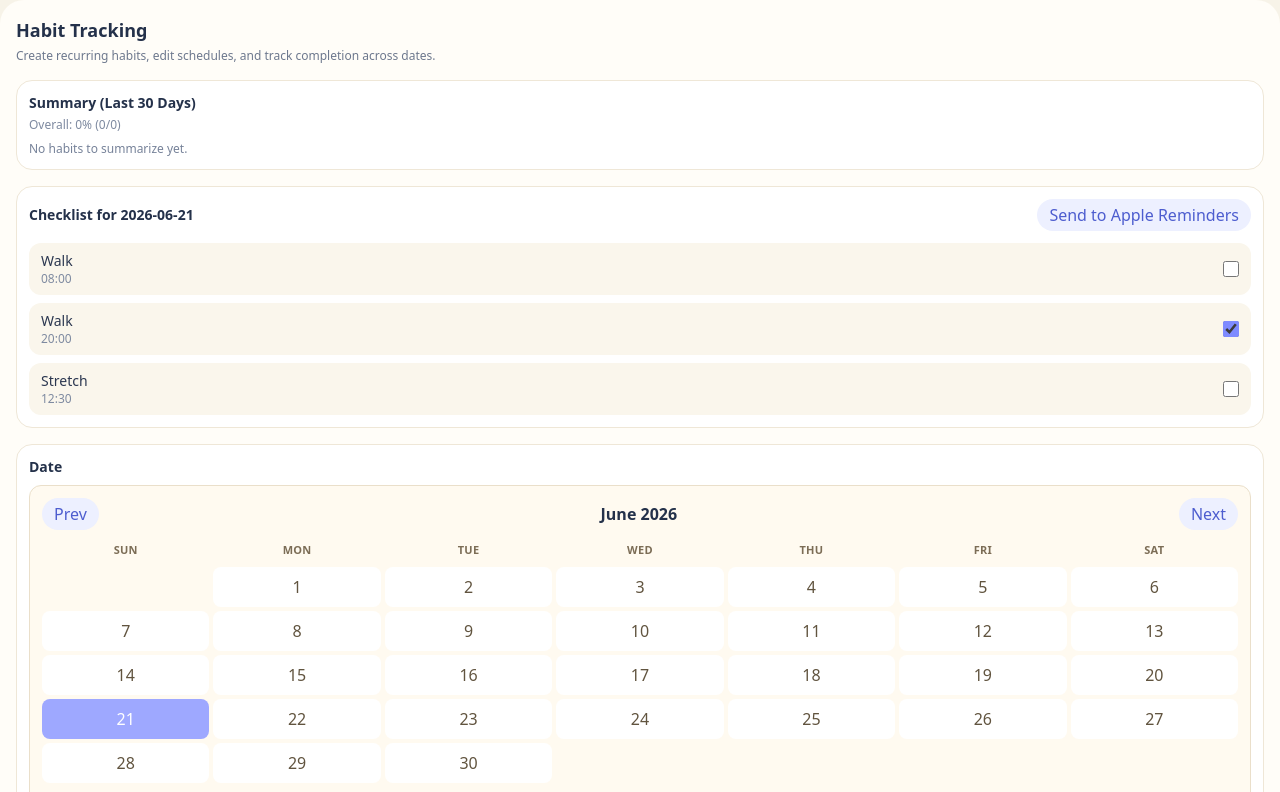
Test: Habits notifications › syncs checklist items to Apple Reminders with completion state
Check: the heading "Checklist for 2026-06-21" is shown, box [29,205,194,225]
Click the button "Send to Apple Reminders" at {"x": 1144, "y": 215}, box [1037,199,1251,231]
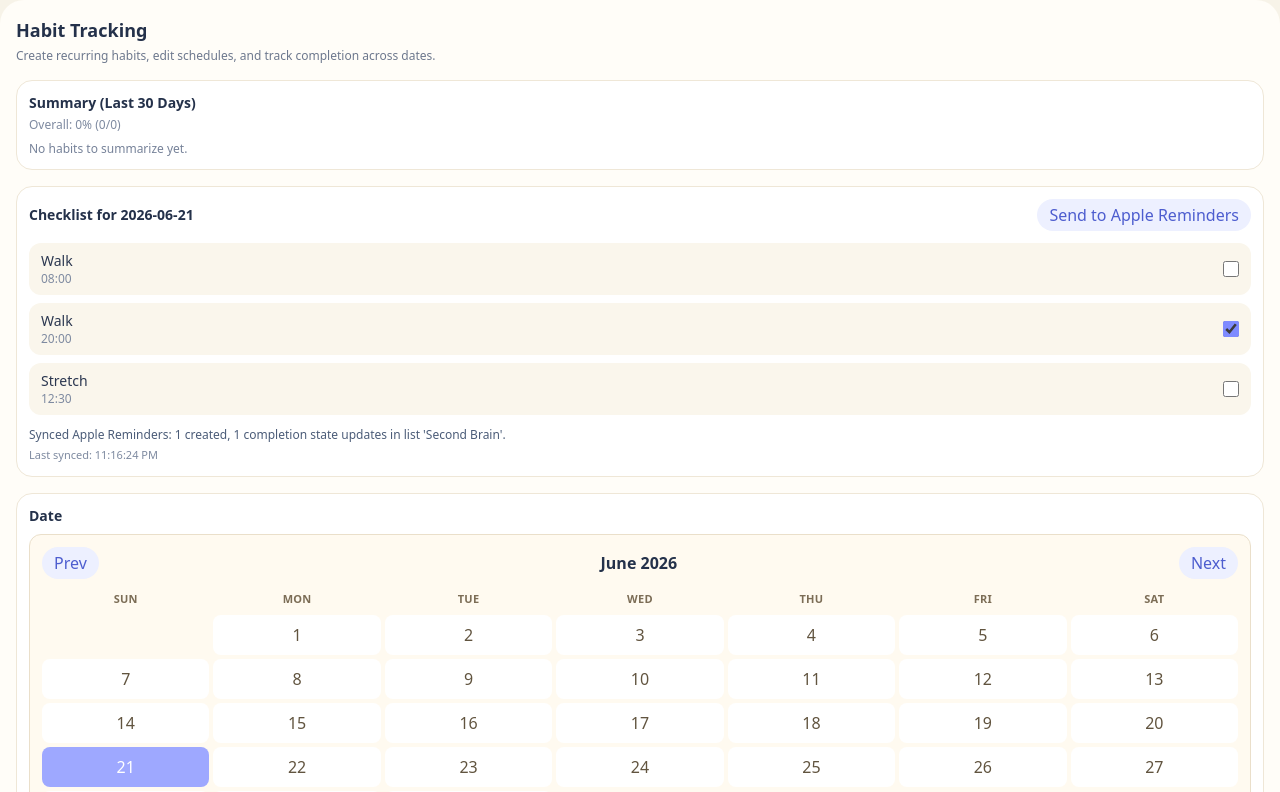
Check: the text "Synced Apple Reminders:" is shown, box [29,426,506,443]
